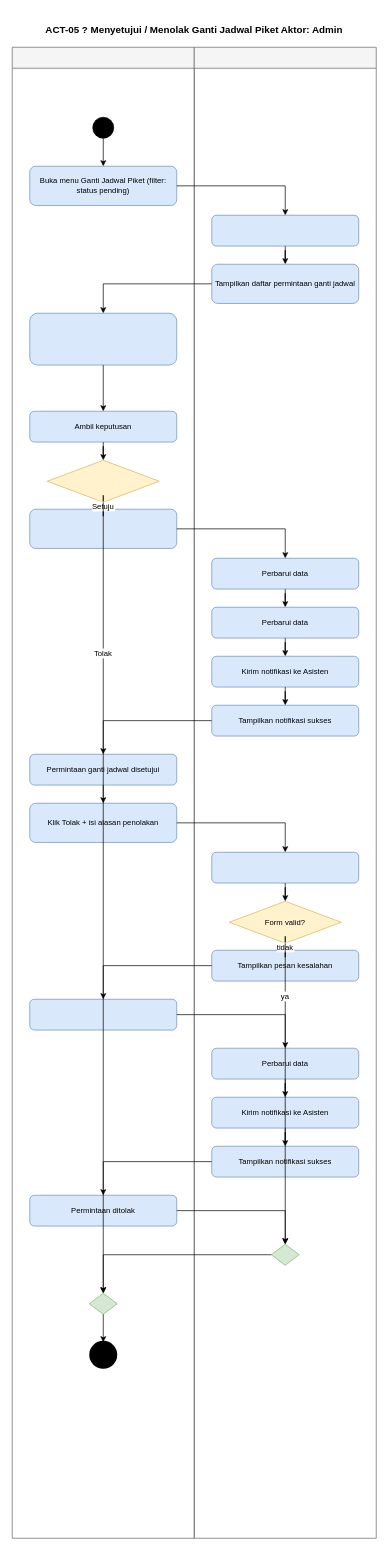
Image size: 389x1551. Some labels were removed from this diagram. Each missing label, with the box of its shape:
Admin: (12, 47, 194, 1538)
Ambil data permintaan ganti jadwal: (211, 215, 359, 246)
Isi alasan: (29, 999, 177, 1030)
Keputusan?: (47, 460, 159, 502)
Klik Setujui (+ catatan opsional): (29, 509, 177, 548)
Periksa alasan tidak kosong: (211, 852, 359, 883)
Pilih permintaan ? baca detail (siapa, jadwal lama, alasan, tanggal pengganti): (29, 313, 177, 365)
System: (194, 47, 376, 1538)
